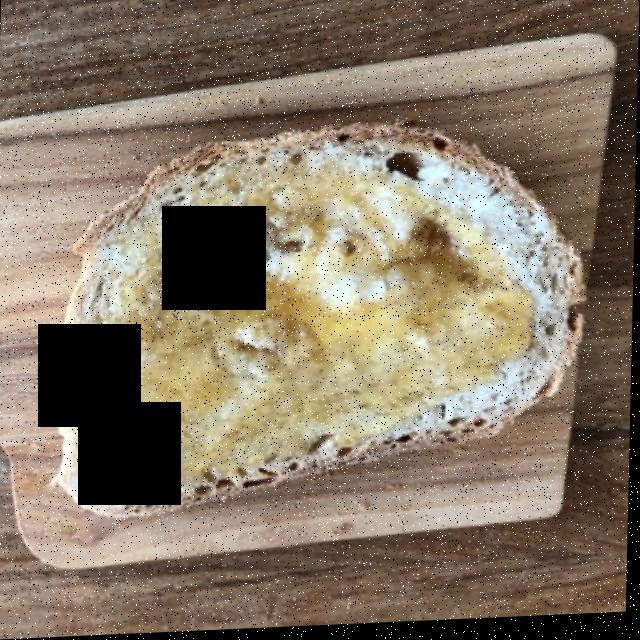bread-wholemeal: (81, 135, 578, 496)
butter: (100, 197, 529, 430)
honey: (115, 178, 508, 469)
